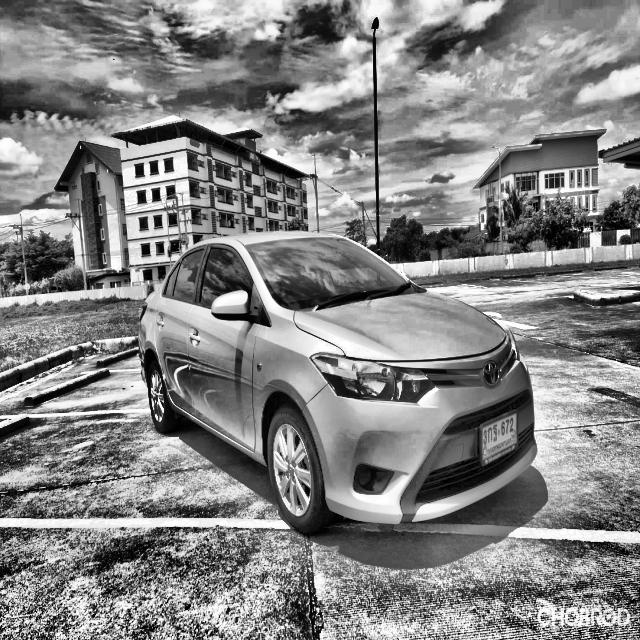license-plate: (478, 411, 520, 468)
